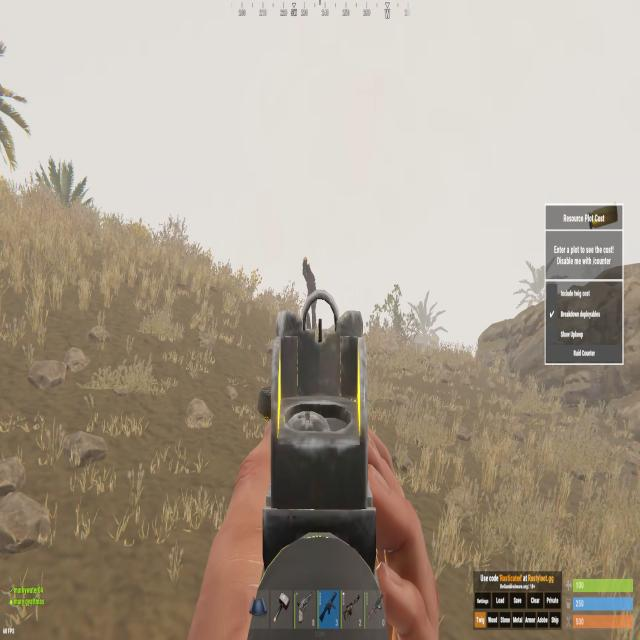Player: (302, 256, 317, 329)
